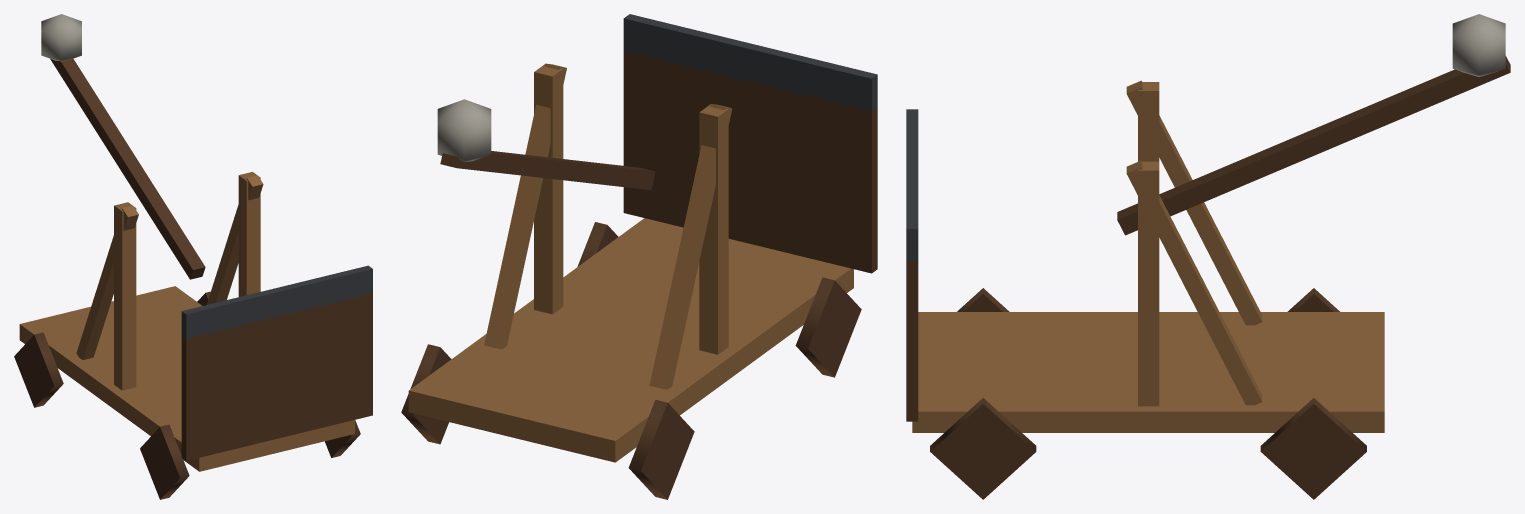
Rendered from unit_mil_catapult_a03_lod2.glb.
3 views of the same model, side by side, from view 1: azimuth 30°, elevation 25°; view 2: azimuth 150°, elevation 25°; view 3: azimuth 270°, elevation 25° (orthographic). The views are drawn at different scales.
Visible parts, largest first — view 1: body, arm, wheel_0, wheel_2, wheel_3; view 2: body, arm, wheel_0, wheel_2, wheel_1, wheel_3; view 3: body, arm, wheel_1, wheel_3, wheel_2, wheel_0.
Boxes of the visible parts, x1,y1,x2,y2 form: body: (19, 172, 372, 471); arm: (41, 14, 205, 279); wheel_0: (14, 332, 63, 407); wheel_2: (140, 424, 189, 499); wheel_3: (325, 420, 360, 457); body: (408, 14, 877, 462); arm: (437, 99, 655, 190); wheel_0: (628, 399, 694, 499); wheel_2: (795, 277, 861, 377); wheel_1: (401, 344, 451, 444); wheel_3: (577, 222, 618, 266); body: (906, 80, 1384, 432); arm: (1117, 14, 1510, 235); wheel_1: (1260, 398, 1366, 499); wheel_3: (930, 398, 1036, 499); wheel_2: (957, 288, 1009, 311); wheel_0: (1287, 288, 1339, 311).
Bounding box in the file's own units: 2.4 × 4 × 5.12.
